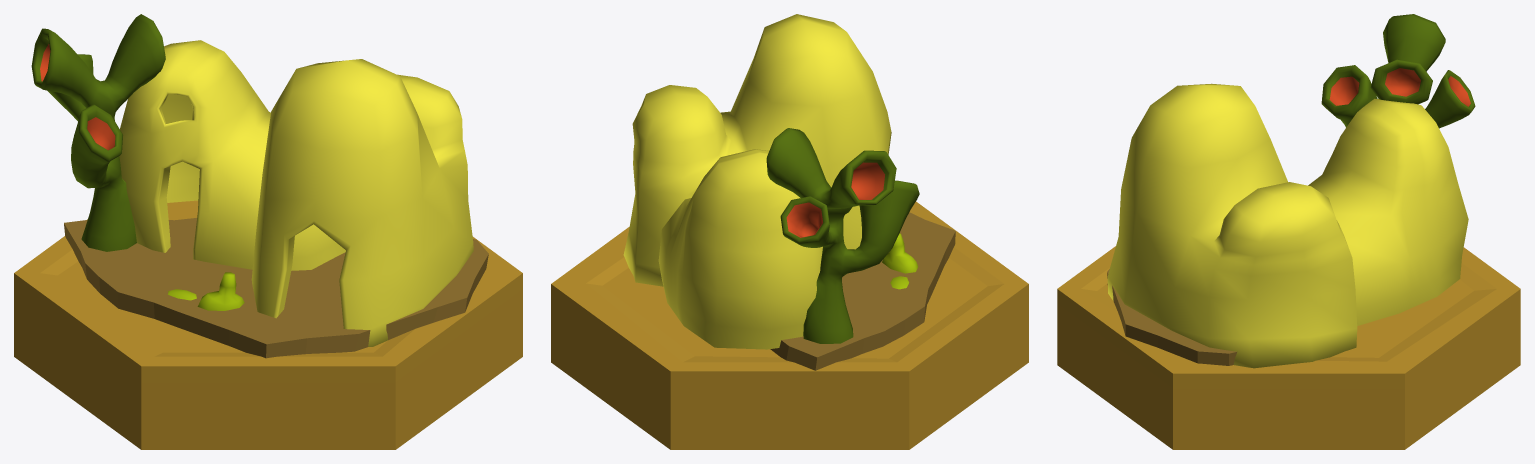
Rendered from House4.fbx.
The picture shows the model from 3 angles, left to right: view 1: azimuth 30°, elevation 25°; view 2: azimuth 150°, elevation 25°; view 3: azimuth 270°, elevation 25°; orthographic projection. The views are drawn at different scales.
Visible parts, largest first — view 1: Cylinder.030; view 2: Cylinder.030; view 3: Cylinder.030.
Boxes of the visible parts, x1,y1,x2,y2 form: Cylinder.030: (14,14,522,449); Cylinder.030: (551,14,1028,449); Cylinder.030: (1057,14,1520,449).
Size of the model in its own units: 173 by 140 by 200.
Materials: 1 (1 with a texture image).
